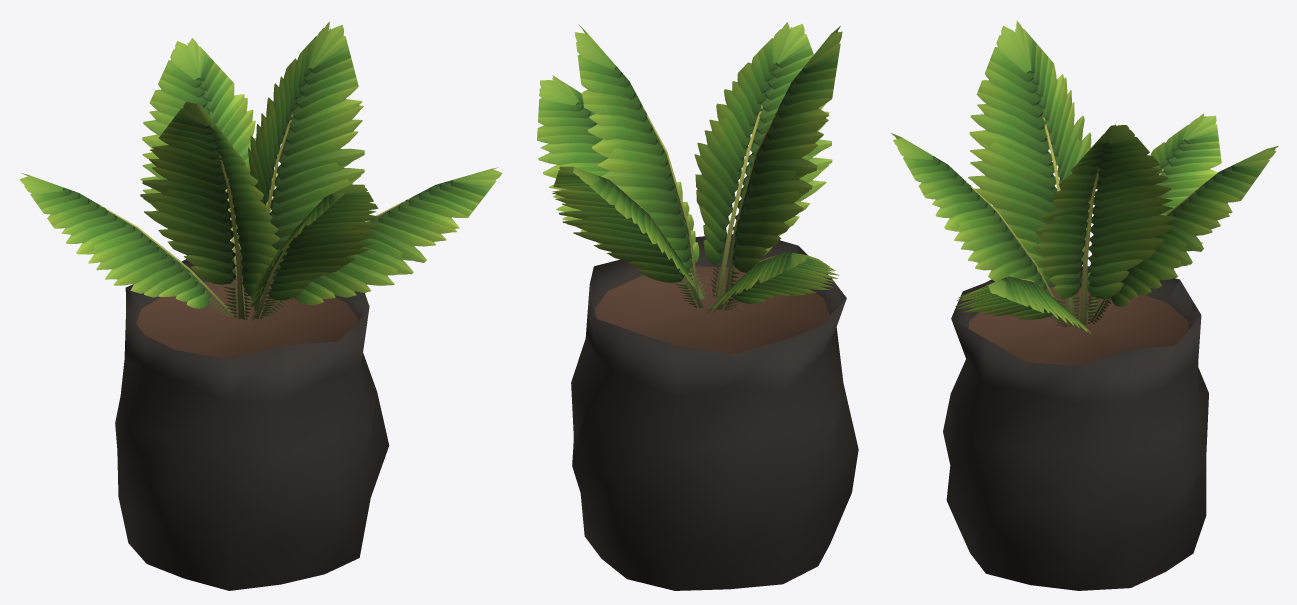
Rendered from sawit_0.glb.
The picture shows the model from 3 angles, left to right: view 1: azimuth 30°, elevation 25°; view 2: azimuth 150°, elevation 25°; view 3: azimuth 270°, elevation 25°; orthographic projection. The views are drawn at different scales.
Visible parts, largest first — view 1: sawit_0_body; view 2: sawit_0_body; view 3: sawit_0_body.
Part boxes in pixels (x1,y1,x2,y2): sawit_0_body: [19, 21, 502, 590]; sawit_0_body: [537, 22, 858, 590]; sawit_0_body: [891, 21, 1278, 590].
Size of the model in its own units: 0.5851 by 0.7271 by 0.5368.
3 materials, 1 textured.
